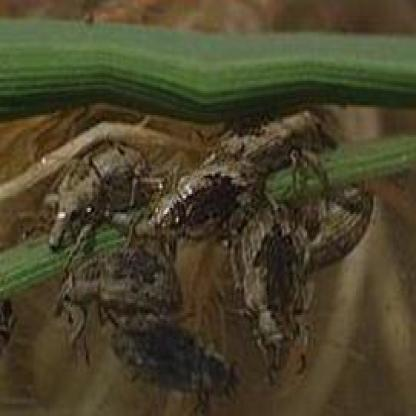rice-bug: (43, 101, 375, 397)
